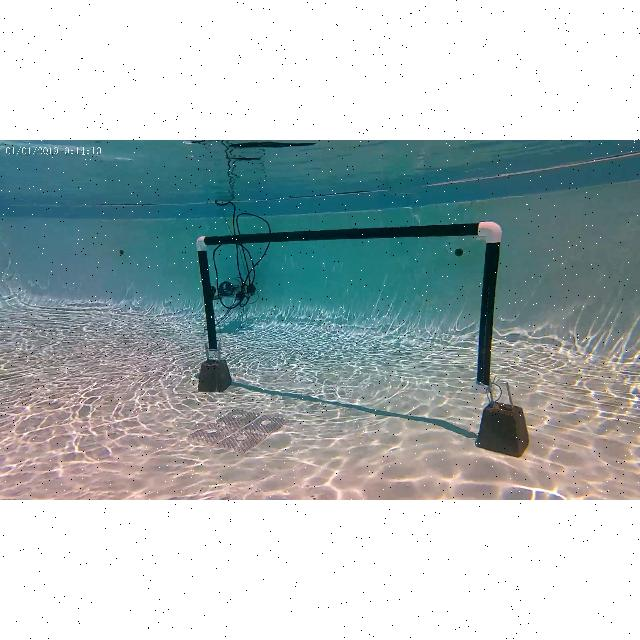prequal gate: (196, 222, 498, 388)
prequal gate leg l: (196, 233, 224, 359)
prequal gate leg r: (475, 220, 503, 390)
